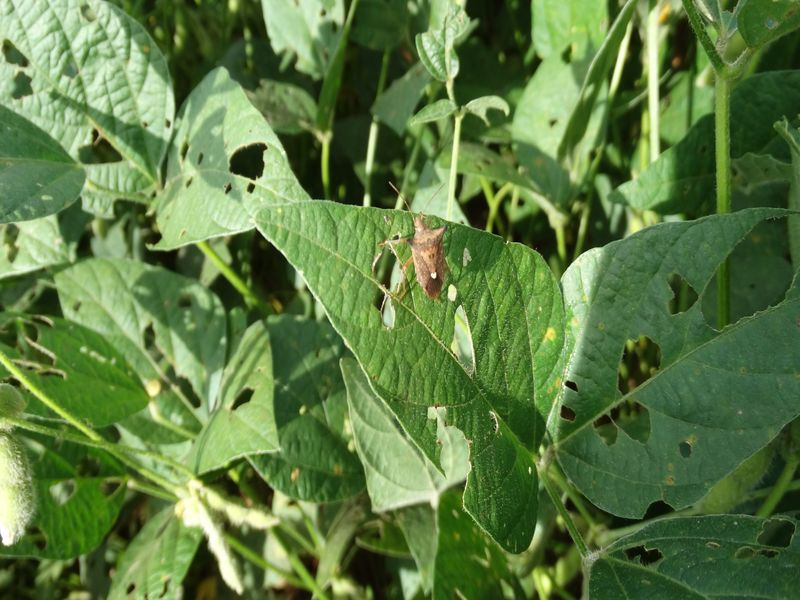Euschistus_heros_adulto: (375, 181, 470, 316)
